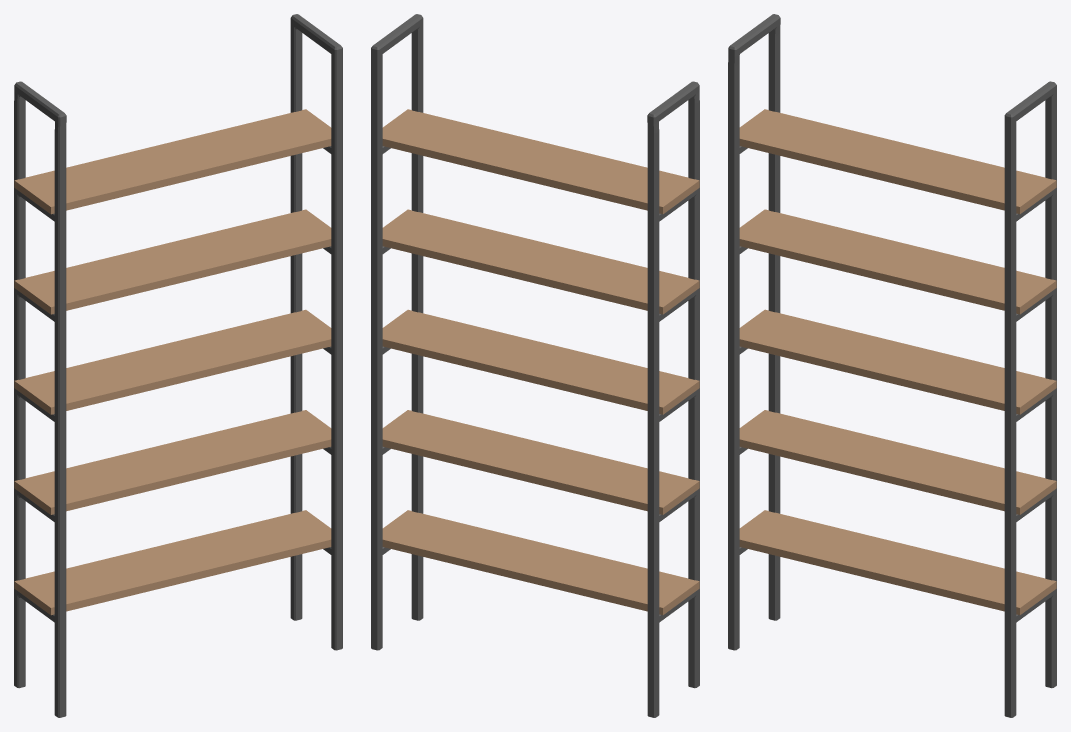
Rendered from Shelves.fbx.
3 views of the same model, side by side, from view 1: azimuth 30°, elevation 25°; view 2: azimuth 150°, elevation 25°; view 3: azimuth 330°, elevation 25° (orthographic).
Visible parts, largest first — view 1: Shelves; view 2: Shelves; view 3: Shelves.
Boxes of the visible parts, x1=… form: Shelves: x1=14, y1=14, x2=342, y2=717; Shelves: x1=371, y1=14, x2=699, y2=717; Shelves: x1=728, y1=14, x2=1056, y2=717.
Bounding box in the file's own units: 97.32 × 192 × 26.17.
